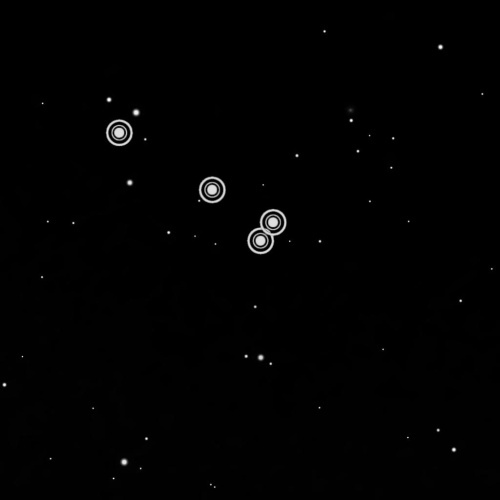sagitta: (98, 108, 292, 258)
